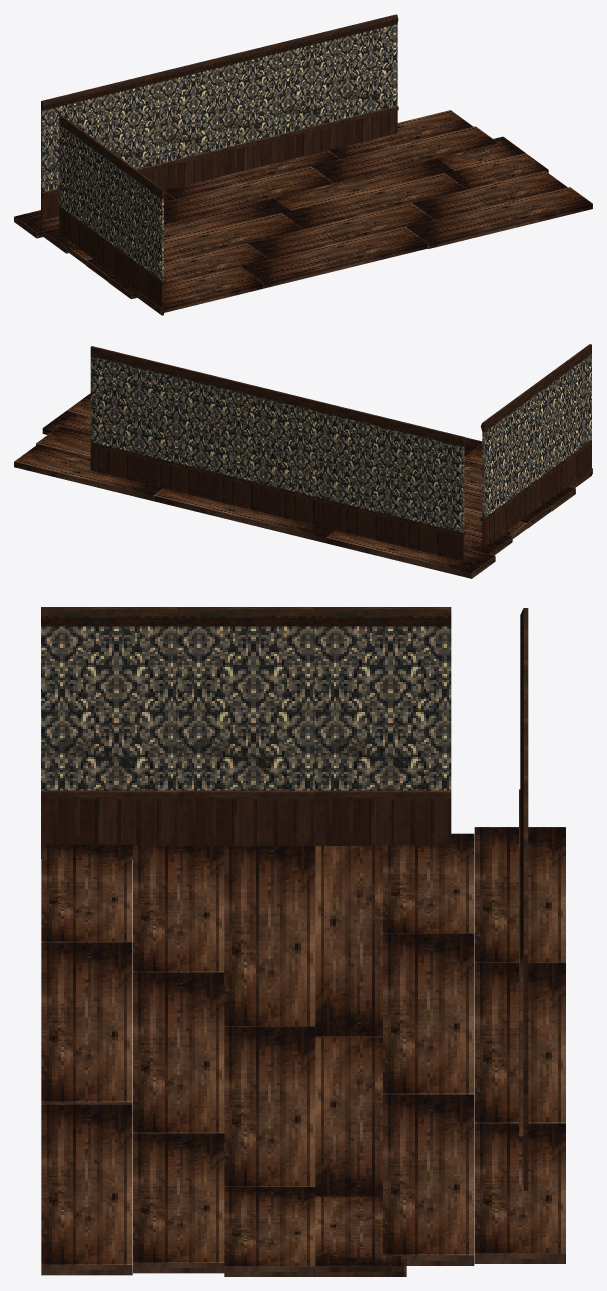
The model's file is SM_Stage_Room.glb.
3 views of the same model, one above another, from view 1: azimuth 30°, elevation 25°; view 2: azimuth 150°, elevation 25°; view 3: azimuth 270°, elevation 25° (orthographic). The views are drawn at different scales.
Parts seen in each view (by area): view 1: SM_House_Blockout.155, SM_House_Blockout.117, SM_House_Blockout.021; view 2: SM_House_Blockout.117, SM_House_Blockout.155, SM_House_Blockout.021; view 3: SM_House_Blockout.155, SM_House_Blockout.021, SM_House_Blockout.117.
Part boxes in pixels (x1,y1,x2,y2): SM_House_Blockout.155: [14, 110, 592, 313]; SM_House_Blockout.117: [41, 14, 398, 219]; SM_House_Blockout.021: [59, 115, 165, 315]; SM_House_Blockout.117: [90, 346, 465, 561]; SM_House_Blockout.155: [14, 393, 592, 578]; SM_House_Blockout.021: [480, 344, 591, 546]; SM_House_Blockout.155: [41, 827, 565, 1276]; SM_House_Blockout.021: [41, 607, 451, 858]; SM_House_Blockout.117: [519, 608, 528, 1190].
Size of the model in its own units: 22.77 by 6.06 by 11.51.
2 materials, 2 textured.
